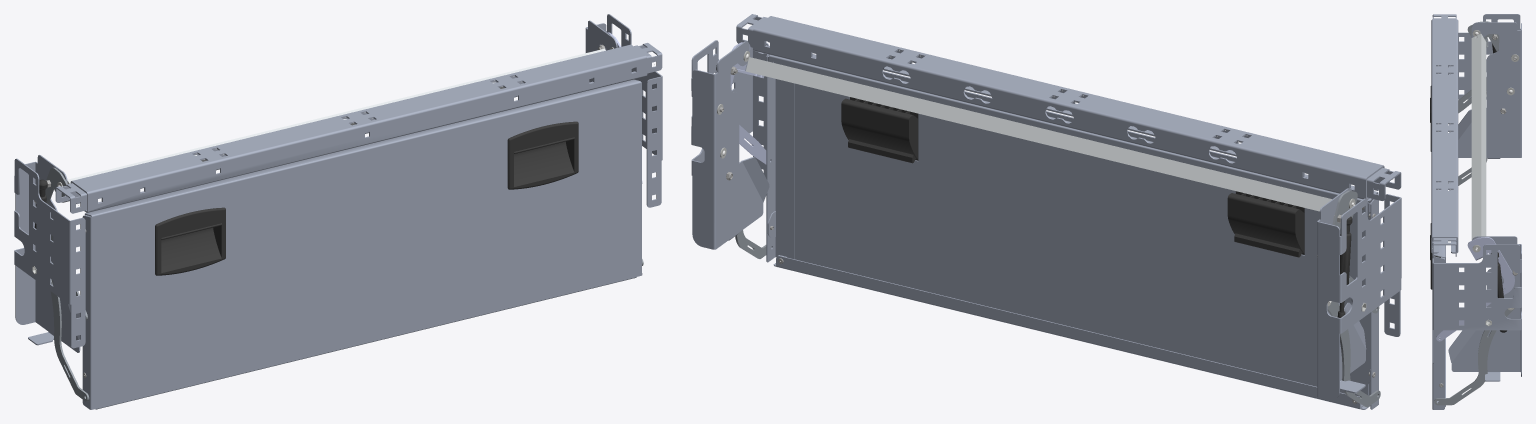
Rendered from KLD41000.glb.
The picture shows the model from 3 angles, left to right: view 1: azimuth 30°, elevation 25°; view 2: azimuth 150°, elevation 25°; view 3: azimuth 270°, elevation 25°; orthographic projection. The views are drawn at different scales.
Visible parts, largest first — view 1: RVT_A-XLD40900-1/A-XLD40900CRP-1, A-XMA40100-1, ASB_A-ZLC00900CRS-1/A-ZLC00900CRS-1/A-ZLC00900CRS-1, ADF_MAN-INC.G-3, ADF_MAN-INC.G-4, ASB_A-ZLC00900CRD-1/A-ZLC00900CRD-1/A-ZLC00900CRD-1, TB20-1, ASB_A-ZLC00900CRS-1/A-ZLC00900CRS-1/A-ZLC00900STF-1, GLB-A-KLD41000; view 2: RVT_A-XLD40900-1/A-XLD40900CRP-1, A-XMA40100-1, ASB_A-ZLC00900CRD-1/A-ZLC00900CRD-1/A-ZLC00900CRD-1, ASB_A-ZLC00900CRS-1/A-ZLC00900CRS-1/A-ZLC00900CRS-1, TB20-1, ADF_MAN-INC.G-3, ADF_MAN-INC.G-4, RVT_A-XLD40900-1/A-XLD00900RFD-2, ASB_A-ZLC00900CRS-1/A-ZLC00900CRS-1/A-ZLC00900STF-1, GLB-A-KLD41000, RVT_A-XLD40900-1/A-XLD00900RFS-1, ASB_A-ZLC00900CRD-1/A-ZLC00900CRD-1/A-ZLC00900STD-1; view 3: ASB_A-ZLC00900CRD-1/A-ZLC00900CRD-1/A-ZLC00900CRD-1, ASB_A-ZLC00900CRS-1/A-ZLC00900CRS-1/A-ZLC00900CRS-1, A-XMA40100-1, TB20-1, RVT_A-XLD40900-1/A-XLD40900CRP-1, ASB_A-ZLC00900CRD-1/A-ZLC00900CRD-1/A-ZLC00900STF-1, ASB_A-ZLC00900CRD-1/A-ZLC00900CRD-1/A-ZLC00900STD-1, ASB_A-ZLC00900CRS-1/A-ZLC00900CRS-1/A-ZLC00900STS-1, A-ABC00001-2, ASB_A-ZLC00900CRD-1/MLLGAS145-12-1/MLG.PRTF.STABILUS.N-1, ADF_MAN-INC.G-3, ASB_A-ZLC00900CRS-1/A-ZLC00900CRS-1/A-ZLC00900STF-1 (+2 smaller).
Boxes of the visible parts, <box> form: RVT_A-XLD40900-1/A-XLD40900CRP-1: <box>82,79,642,409</box>; A-XMA40100-1: <box>70,44,647,212</box>; ASB_A-ZLC00900CRS-1/A-ZLC00900CRS-1/A-ZLC00900CRS-1: <box>14,155,85,352</box>; ADF_MAN-INC.G-3: <box>507,121,578,189</box>; ADF_MAN-INC.G-4: <box>155,207,225,275</box>; ASB_A-ZLC00900CRD-1/A-ZLC00900CRD-1/A-ZLC00900CRD-1: <box>585,14,662,207</box>; TB20-1: <box>67,48,605,183</box>; ASB_A-ZLC00900CRS-1/A-ZLC00900CRS-1/A-ZLC00900STF-1: <box>50,261,89,401</box>; GLB-A-KLD41000: <box>55,64,654,213</box>; RVT_A-XLD40900-1/A-XLD40900CRP-1: <box>766,54,1378,409</box>; A-XMA40100-1: <box>753,16,1384,199</box>; ASB_A-ZLC00900CRD-1/A-ZLC00900CRD-1/A-ZLC00900CRD-1: <box>691,40,769,249</box>; ASB_A-ZLC00900CRS-1/A-ZLC00900CRS-1/A-ZLC00900CRS-1: <box>1317,188,1401,400</box>; TB20-1: <box>745,57,1331,211</box>; ADF_MAN-INC.G-3: <box>841,97,918,163</box>; ADF_MAN-INC.G-4: <box>1227,191,1304,257</box>; RVT_A-XLD40900-1/A-XLD00900RFD-2: <box>767,55,794,258</box>; ASB_A-ZLC00900CRS-1/A-ZLC00900CRS-1/A-ZLC00900STF-1: <box>1327,301,1380,407</box>; GLB-A-KLD41000: <box>899,50,1401,200</box>; RVT_A-XLD40900-1/A-XLD00900RFS-1: <box>1357,199,1373,407</box>; ASB_A-ZLC00900CRD-1/A-ZLC00900CRD-1/A-ZLC00900STD-1: <box>730,42,766,164</box>; ASB_A-ZLC00900CRD-1/A-ZLC00900CRD-1/A-ZLC00900CRD-1: <box>1432,236,1521,381</box>; ASB_A-ZLC00900CRS-1/A-ZLC00900CRS-1/A-ZLC00900CRS-1: <box>1448,14,1521,158</box>; A-XMA40100-1: <box>1431,19,1458,253</box>; TB20-1: <box>1471,34,1486,240</box>; RVT_A-XLD40900-1/A-XLD40900CRP-1: <box>1432,66,1445,409</box>; ASB_A-ZLC00900CRD-1/A-ZLC00900CRD-1/A-ZLC00900STF-1: <box>1434,308,1514,405</box>; ASB_A-ZLC00900CRD-1/A-ZLC00900CRD-1/A-ZLC00900STD-1: <box>1436,237,1514,341</box>; ASB_A-ZLC00900CRS-1/A-ZLC00900CRS-1/A-ZLC00900STS-1: <box>1458,21,1499,113</box>; A-ABC00001-2: <box>1432,238,1456,256</box>; ASB_A-ZLC00900CRD-1/MLLGAS145-12-1/MLG.PRTF.STABILUS.N-1: <box>1491,252,1503,298</box>; ADF_MAN-INC.G-3: <box>1430,223,1440,289</box>; ASB_A-ZLC00900CRS-1/A-ZLC00900CRS-1/A-ZLC00900STF-1: <box>1448,158,1487,185</box>.
Bounding box in the file's own units: 1.01 × 0.3593 × 0.1699.
